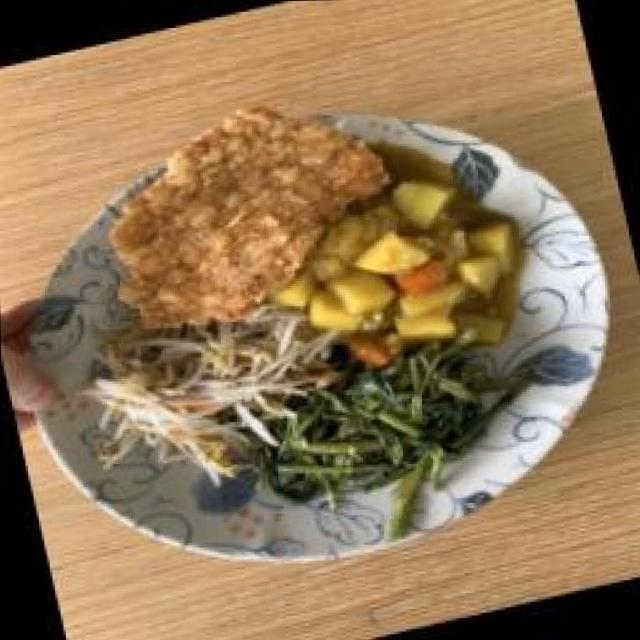curry: (312, 196, 526, 348)
fried_chicken: (84, 86, 390, 336)
mung_bean_sprouts: (110, 316, 292, 454)
water_spinach: (266, 337, 504, 506)
